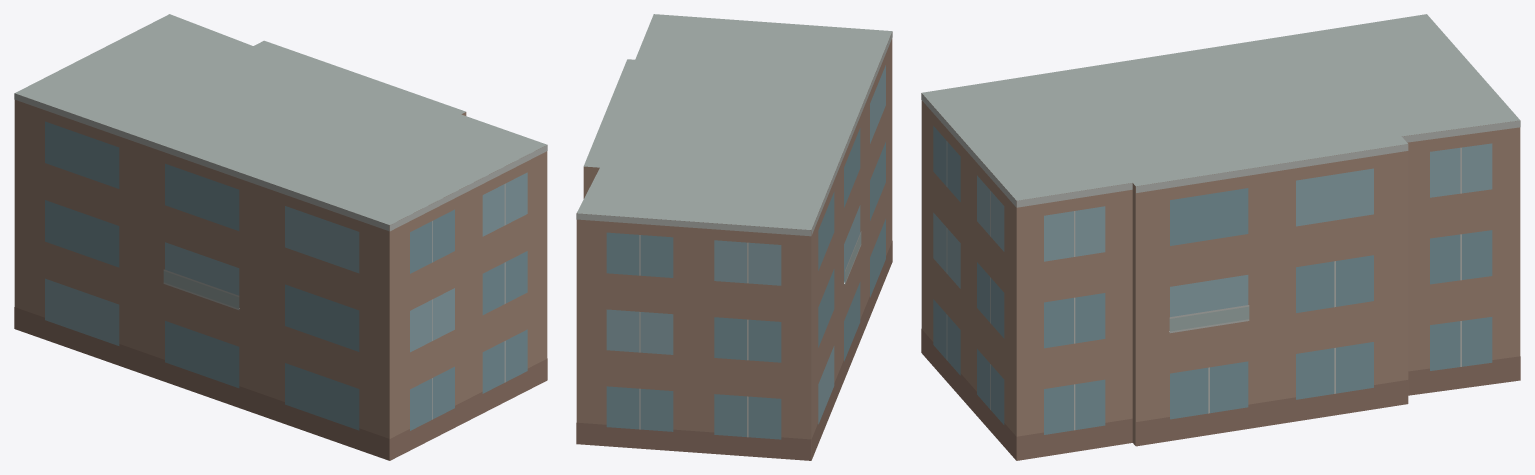
The model's file is survey-upis-32697639.glb.
The picture shows the model from 3 angles, left to right: view 1: azimuth 30°, elevation 25°; view 2: azimuth 150°, elevation 25°; view 3: azimuth 270°, elevation 25°; orthographic projection. The views are drawn at different scales.
Parts seen in each view (by area): view 1: survey-upis-32697639.tmp; view 2: survey-upis-32697639.tmp; view 3: survey-upis-32697639.tmp.
Part boxes in pixels (bbox=[...]): survey-upis-32697639.tmp: bbox=[14, 14, 547, 460]; survey-upis-32697639.tmp: bbox=[576, 14, 892, 460]; survey-upis-32697639.tmp: bbox=[921, 14, 1520, 460].
Bounding box in the file's own units: 14.11 × 9.15 × 19.11.
